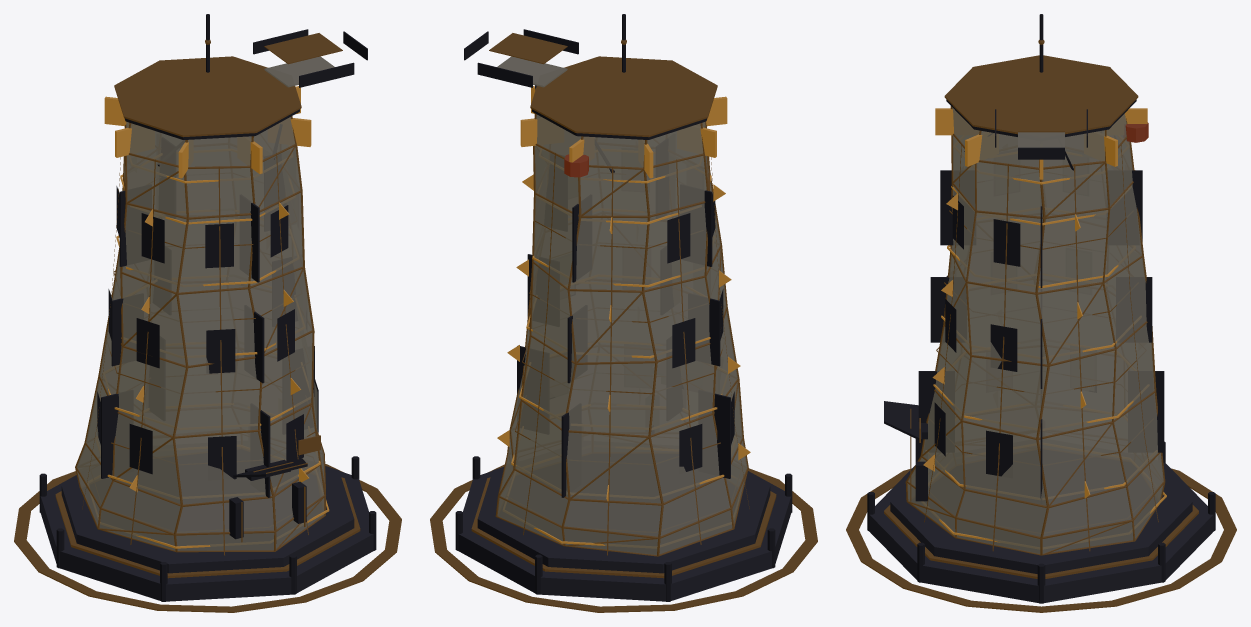
The model's file is finance-ext-draft-s14.glb.
3 views of the same model, side by side, from view 1: azimuth 30°, elevation 25°; view 2: azimuth 150°, elevation 25°; view 3: azimuth 270°, elevation 25° (orthographic).
Visible parts, largest first — view 1: main_body, crown_edge_ring, base_platform_lower, base_platform_upper, ground_accent_ring, base_step_ring, obs_railing_top, frame_window_c5_f2, frame_window_c5_f4, frame_window_c0_f4, edge_vert_5, frame_window_c4_f0 (+28 smaller); view 2: main_body, crown_edge_ring, base_platform_lower, base_platform_upper, ground_accent_ring, base_step_ring, obs_railing_top, edge_vert_3, frame_window_c0_f4, frame_window_c3_f2, frame_window_c3_f4, obs_deck_floor (+17 smaller); view 3: main_body, crown_edge_ring, base_platform_lower, base_platform_upper, ground_accent_ring, base_step_ring, obs_railing_top, frame_window_c7_f4, edge_vert_0, frame_window_c7_f0, entry_canopy, frame_window_c7_f2 (+19 smaller).
Boxes of the visible parts, x1=… form: main_body: x1=77, y1=117, x2=324, y2=550; crown_edge_ring: x1=114, y1=56, x2=301, y2=137; base_platform_lower: x1=40, y1=471, x2=373, y2=601; base_platform_upper: x1=61, y1=466, x2=354, y2=573; ground_accent_ring: x1=14, y1=464, x2=401, y2=612; base_step_ring: x1=55, y1=477, x2=360, y2=578; obs_railing_top: x1=264, y1=33, x2=342, y2=64; frame_window_c5_f2: x1=206, y1=329, x2=235, y2=373; frame_window_c5_f4: x1=205, y1=223, x2=233, y2=268; frame_window_c0_f4: x1=101, y1=393, x2=118, y2=478; edge_vert_5: x1=172, y1=140, x2=188, y2=551; frame_window_c4_f0: x1=129, y1=424, x2=152, y2=474; main_body: x1=497, y1=114, x2=747, y2=554; crown_edge_ring: x1=530, y1=56, x2=717, y2=137; base_platform_lower: x1=458, y1=471, x2=791, y2=601; base_platform_upper: x1=477, y1=467, x2=770, y2=573; ground_accent_ring: x1=430, y1=464, x2=817, y2=612; base_step_ring: x1=471, y1=477, x2=776, y2=578; obs_railing_top: x1=489, y1=33, x2=567, y2=64; edge_vert_3: x1=642, y1=140, x2=663, y2=556; frame_window_c0_f4: x1=714, y1=393, x2=730, y2=478; frame_window_c3_f2: x1=672, y1=318, x2=695, y2=368; frame_window_c3_f4: x1=667, y1=213, x2=690, y2=263; obs_deck_floor: x1=497, y1=56, x2=567, y2=87; main_body: x1=907, y1=107, x2=1163, y2=553; crown_edge_ring: x1=944, y1=55, x2=1138, y2=134; base_platform_lower: x1=869, y1=463, x2=1213, y2=602; base_platform_upper: x1=890, y1=473, x2=1192, y2=573; ground_accent_ring: x1=846, y1=468, x2=1236, y2=612; base_step_ring: x1=884, y1=505, x2=1198, y2=578; obs_railing_top: x1=1018, y1=104, x2=1064, y2=132; frame_window_c7_f4: x1=993, y1=219, x2=1020, y2=266; edge_vert_0: x1=1035, y1=160, x2=1049, y2=555; frame_window_c7_f0: x1=986, y1=430, x2=1012, y2=476; entry_canopy: x1=884, y1=401, x2=921, y2=441; frame_window_c7_f2: x1=990, y1=324, x2=1017, y2=371.
Bounding box in the file's own units: 12.4 × 18.05 × 12.4.
